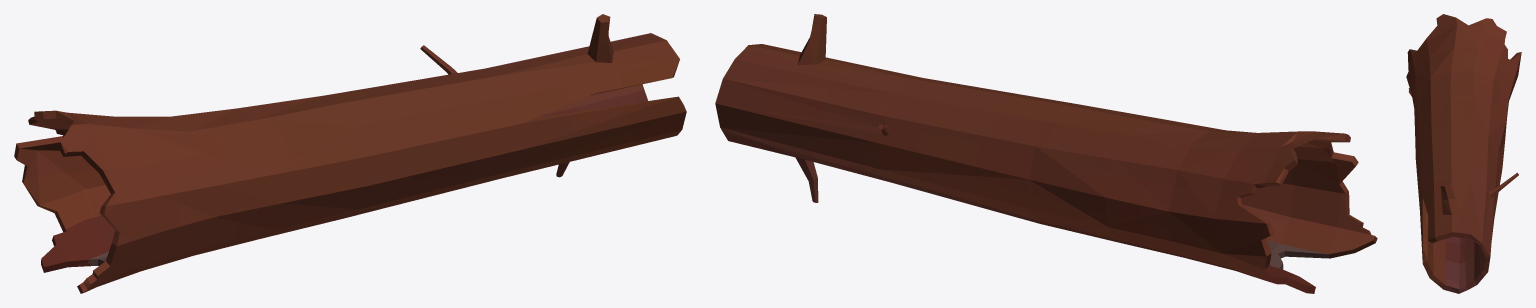
File: Fallen_Dynamic_Tree_02a.fbx
The picture shows the model from 3 angles, left to right: view 1: azimuth 30°, elevation 25°; view 2: azimuth 150°, elevation 25°; view 3: azimuth 270°, elevation 25°; orthographic projection. The views are drawn at different scales.
Visible parts, largest first — view 1: SM_Tree_Fallen_02a_Dynamic.mo; view 2: SM_Tree_Fallen_02a_Dynamic.mo; view 3: SM_Tree_Fallen_02a_Dynamic.mo.
Part boxes in pixels (left/top/right/bottom): SM_Tree_Fallen_02a_Dynamic.mo: left=14, top=14, right=686, bottom=293; SM_Tree_Fallen_02a_Dynamic.mo: left=715, top=14, right=1377, bottom=293; SM_Tree_Fallen_02a_Dynamic.mo: left=1406, top=14, right=1521, bottom=293.
Bounding box in the file's own units: 678 × 190 × 173.
